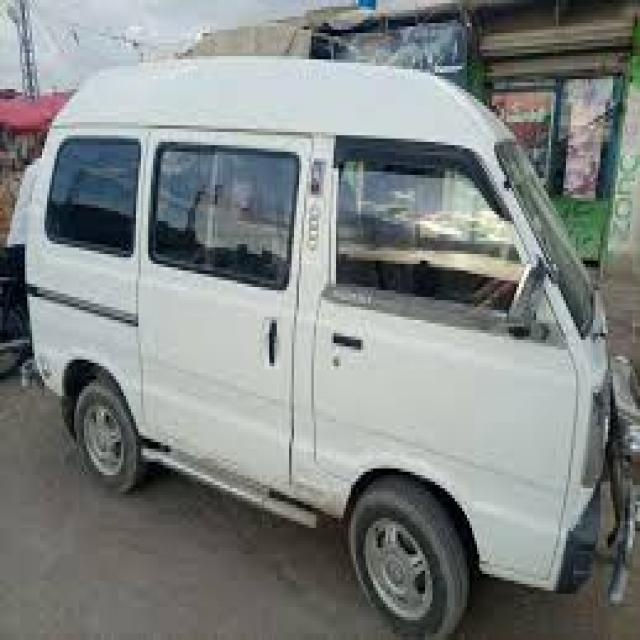Van: (27, 49, 618, 640)
